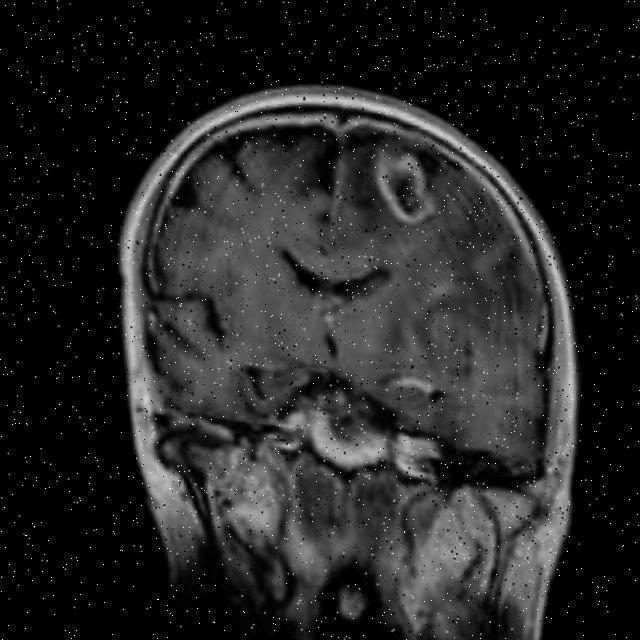LMCI: (362, 120, 441, 228)
